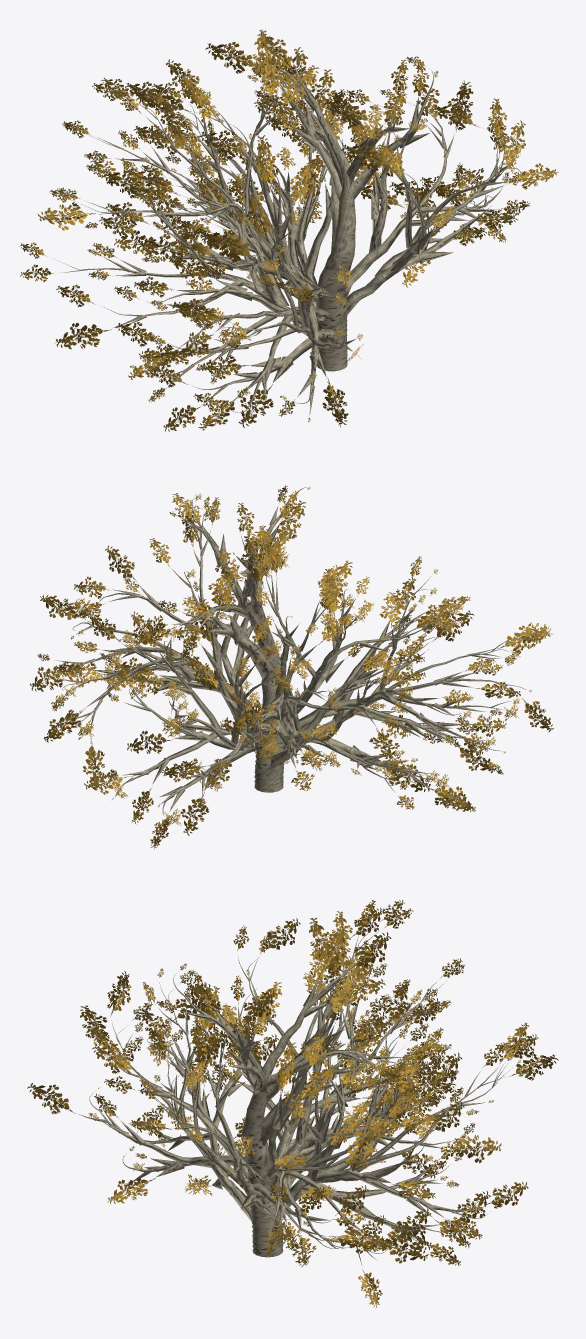
Rendered from tree-b.glb.
3 renders of one model, top to bottom at view 1: azimuth 30°, elevation 25°; view 2: azimuth 150°, elevation 25°; view 3: azimuth 270°, elevation 25°, orthographic. The views are drawn at different scales.
Bounding box in the file's own units: 177 × 121 × 180.
Materials: 2 (2 with a texture image).
